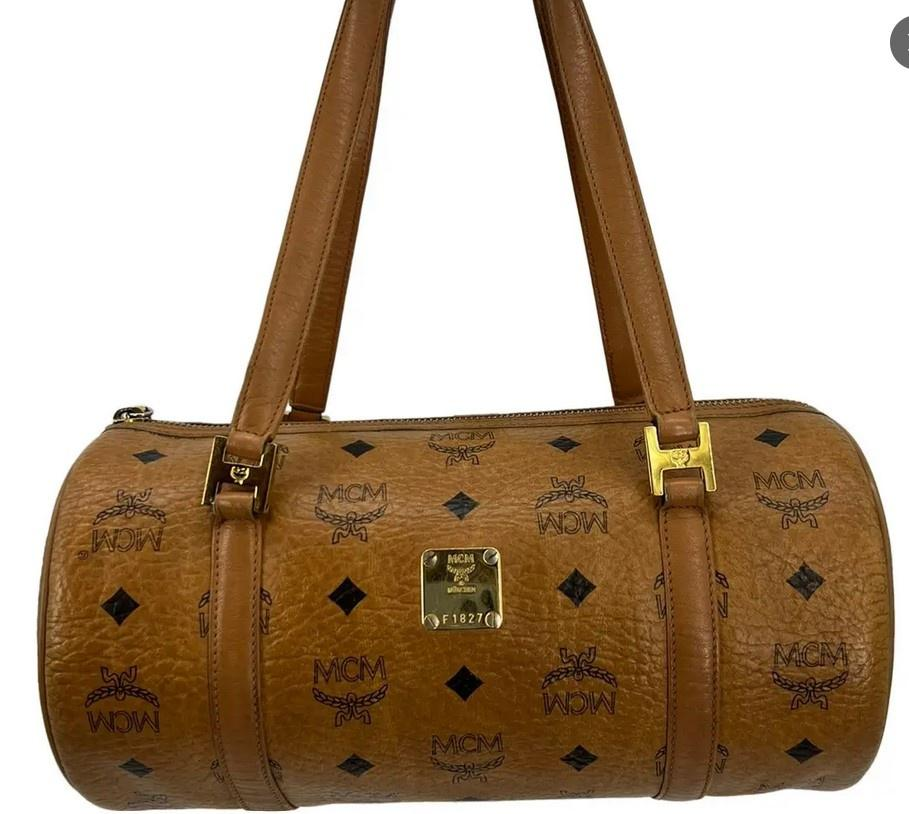MCM: (53, 418, 878, 794)
